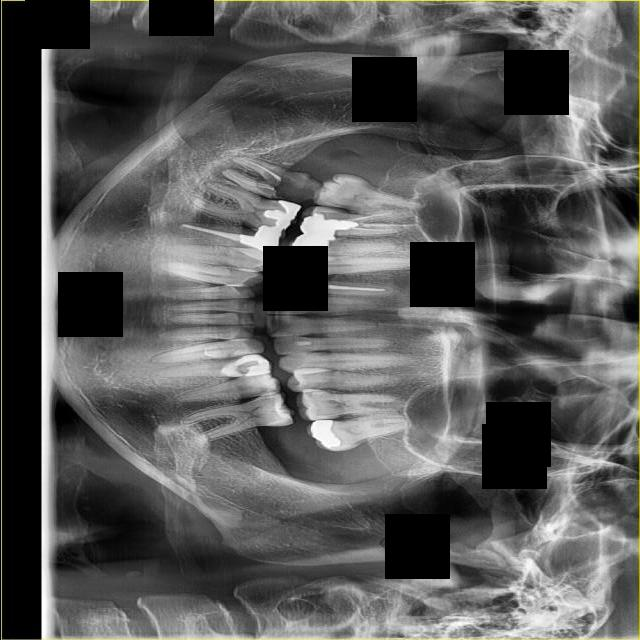74: (181, 219, 240, 242), (235, 153, 283, 181), (227, 173, 275, 192), (344, 211, 394, 223), (358, 223, 417, 229), (330, 285, 382, 291), (351, 227, 390, 230)
NucleOSS Implant: (254, 191, 302, 244), (298, 211, 359, 241), (237, 220, 282, 256), (306, 416, 341, 453), (289, 234, 336, 255)
Sterngold Implant: (254, 164, 322, 206), (249, 385, 273, 397), (256, 393, 274, 405), (303, 387, 322, 397)
Straumann Implant: (219, 353, 269, 379), (274, 274, 328, 295), (226, 347, 254, 358), (292, 341, 311, 346)
